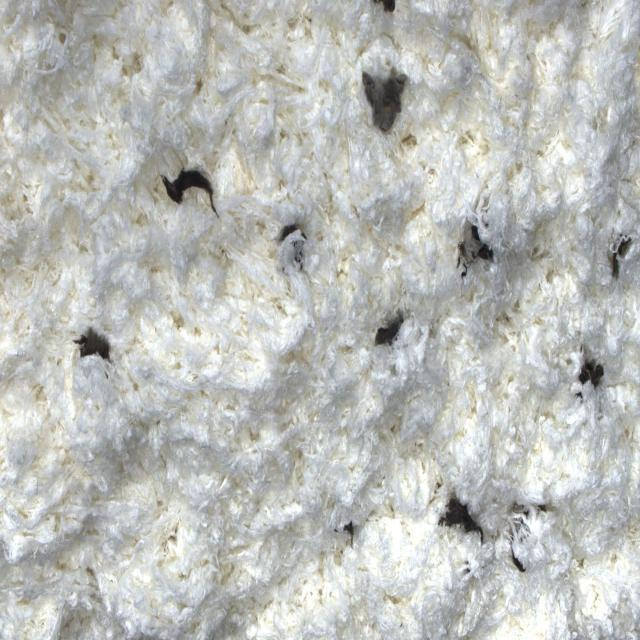dust: (344, 31, 422, 172), (438, 191, 506, 317), (425, 460, 490, 585), (62, 289, 124, 410), (155, 129, 222, 234), (561, 324, 613, 430), (363, 285, 411, 383), (274, 192, 317, 299), (594, 212, 639, 294), (507, 532, 537, 597), (367, 0, 408, 32), (338, 509, 361, 553)
